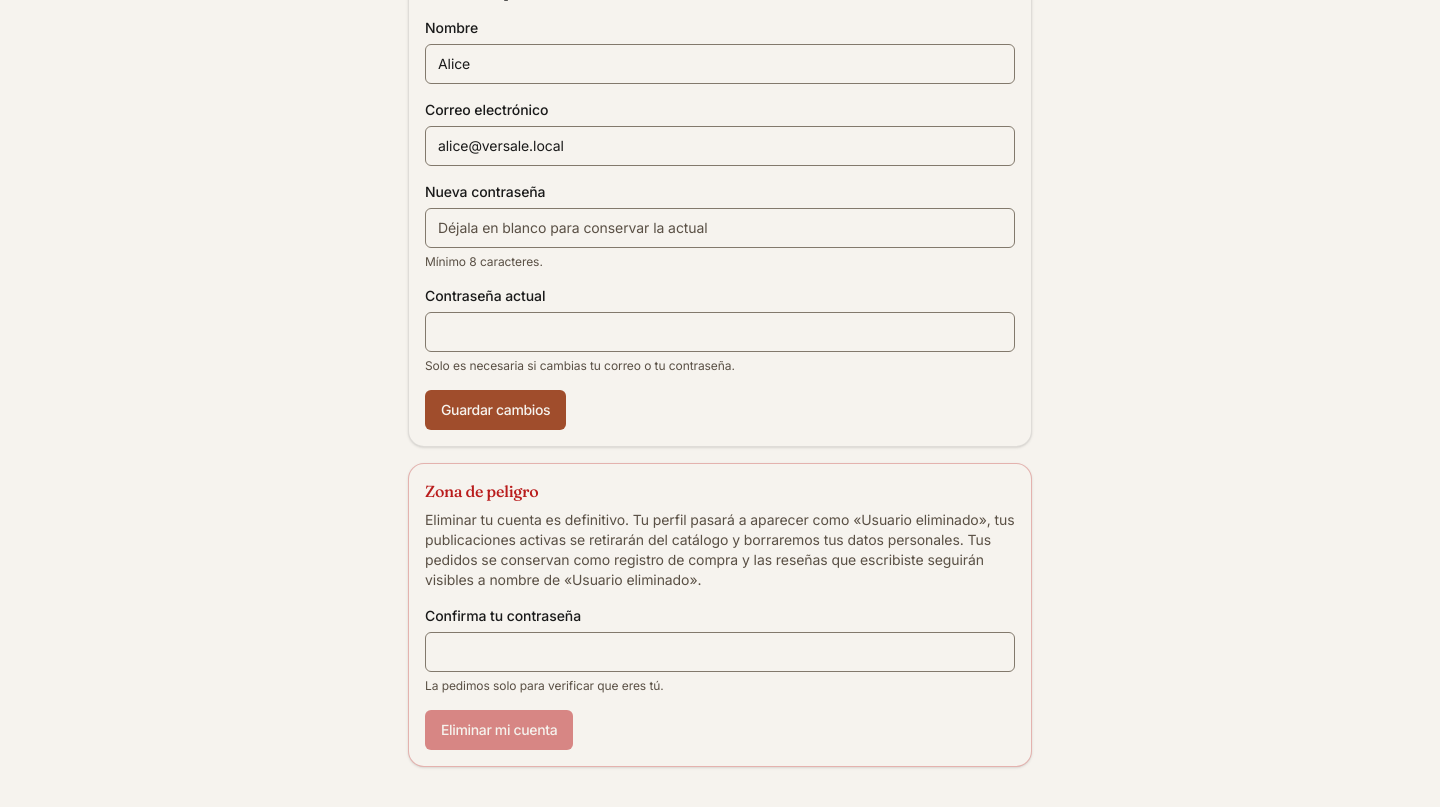
Test: ProfilePage — zona de peligro (borrado de cuenta) › habilita el botón al escribir la contraseña y abre un diálogo de confirmación accesible
(page scrolled)
Check: the button "Eliminar mi cuenta" is disabled, box [425,710,573,750]
Type "claveSegura1" into the password field labelled "Confirma tu contraseña" at [720, 652], box [425,632,1015,672]
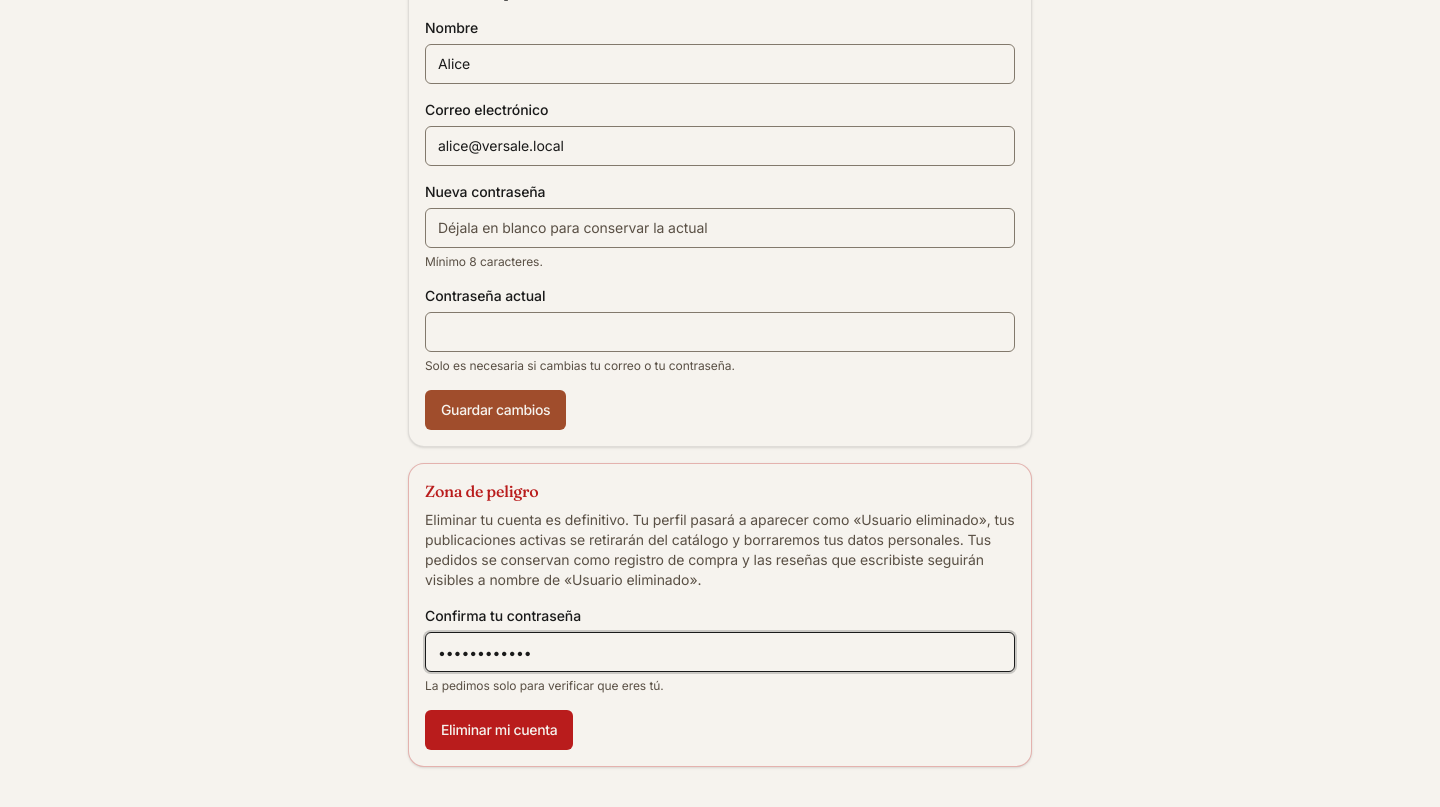
Check: the button "Eliminar mi cuenta" is enabled
Click the button "Eliminar mi cuenta" at [499, 730], box [425,710,573,750]
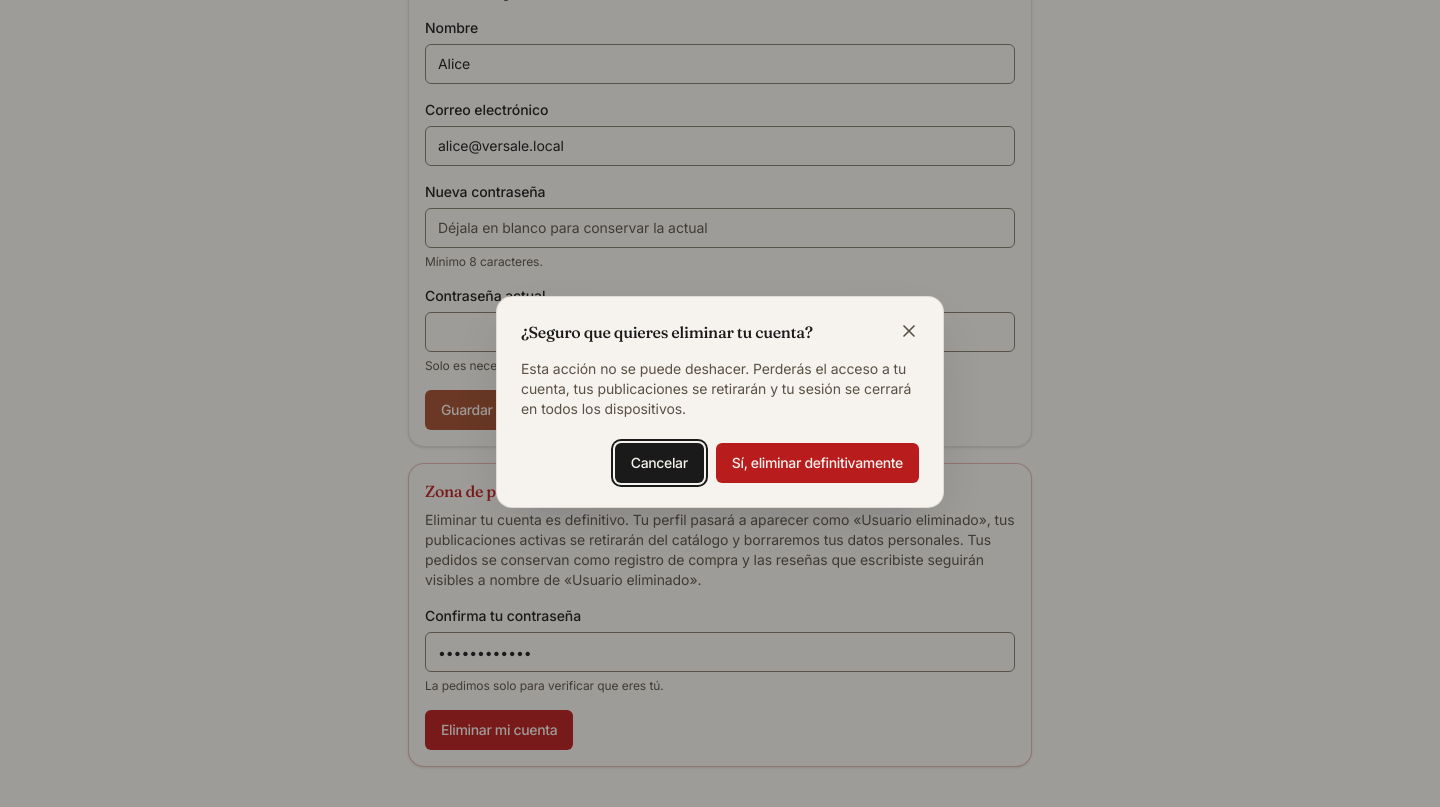
Check: the text "Esta acción no se puede deshacer" is shown, box [521,360,911,417]
